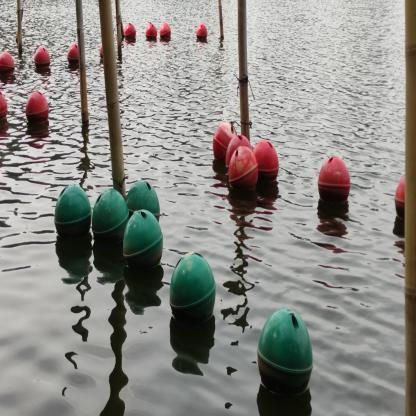green_buoy: (256, 303, 316, 397), (168, 252, 216, 323), (124, 211, 164, 280), (91, 187, 132, 250), (54, 178, 92, 241), (124, 176, 163, 228)
red_buoy: (316, 149, 352, 209), (228, 146, 260, 195), (252, 136, 280, 188), (210, 116, 236, 167), (224, 134, 253, 176), (24, 87, 51, 126), (392, 170, 406, 220), (34, 45, 52, 69), (0, 49, 16, 75), (67, 42, 80, 66), (144, 22, 158, 43), (159, 20, 172, 42), (0, 88, 8, 123), (124, 23, 137, 44), (196, 23, 208, 41), (99, 43, 103, 61)
